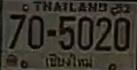0: (27, 14, 43, 48), (113, 17, 129, 50), (77, 16, 93, 49)
2: (95, 16, 111, 50)
5: (58, 15, 75, 49)
7: (9, 13, 25, 48)
CMI: (44, 52, 95, 70)
